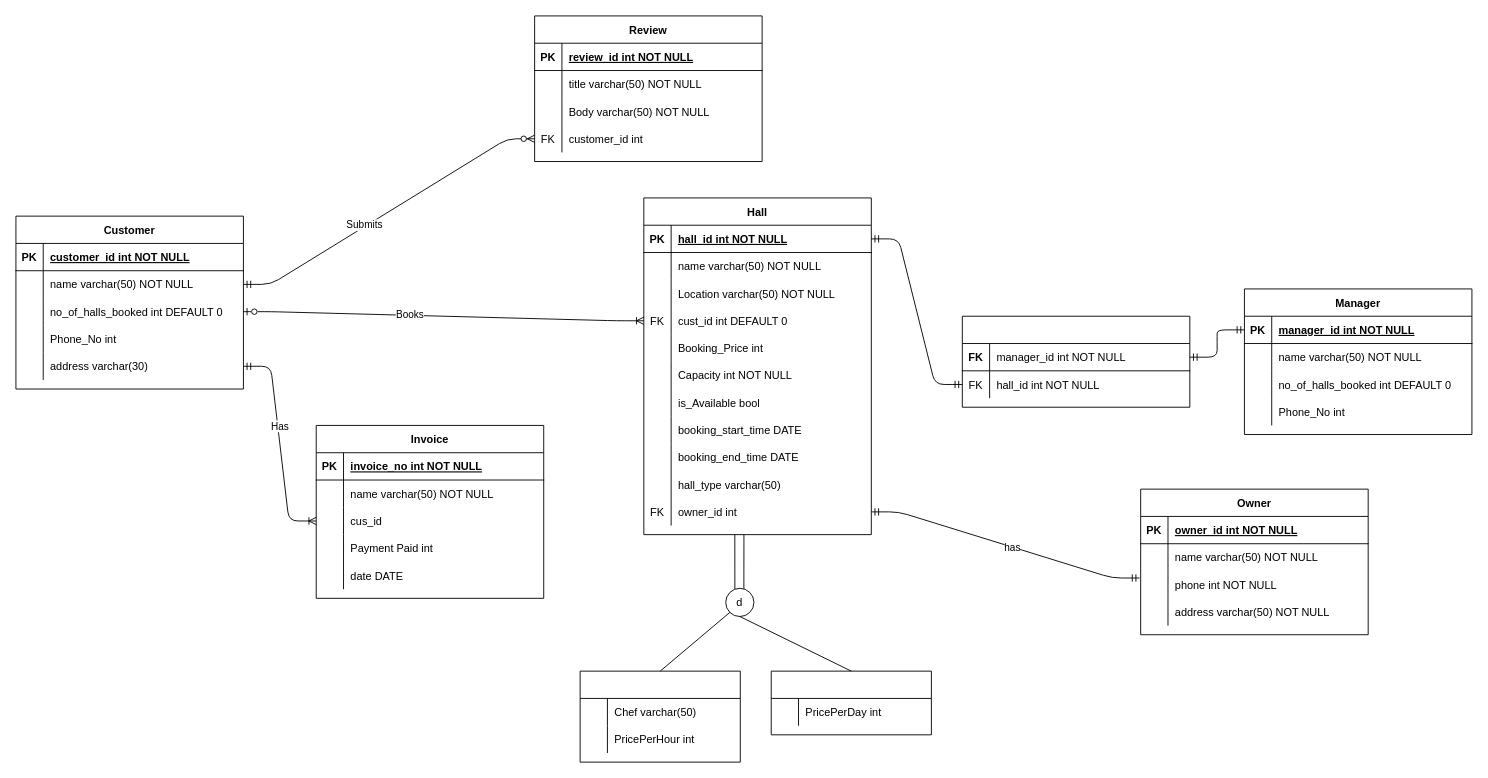
Some shapes in this 1488 by 778 pixel diagram are drawn without their labels. Here are the shapes that lost their labels. From the top down, the box of each, then its label:
(961, 315, 1190, 407): Manages
(579, 670, 740, 762): Wedding Hall
(770, 670, 931, 735): Conference Center
